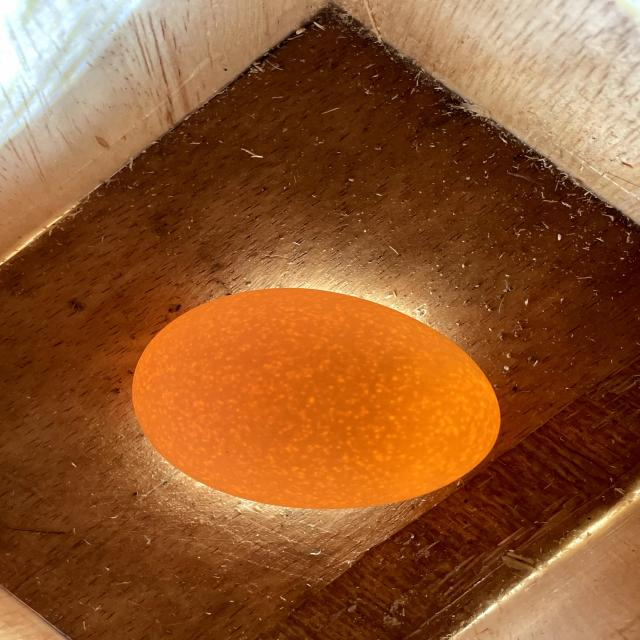infertile: (132, 289, 500, 509)
